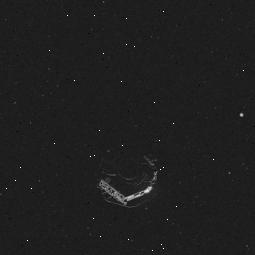lisa_pathfinder: (89, 132, 172, 218)
